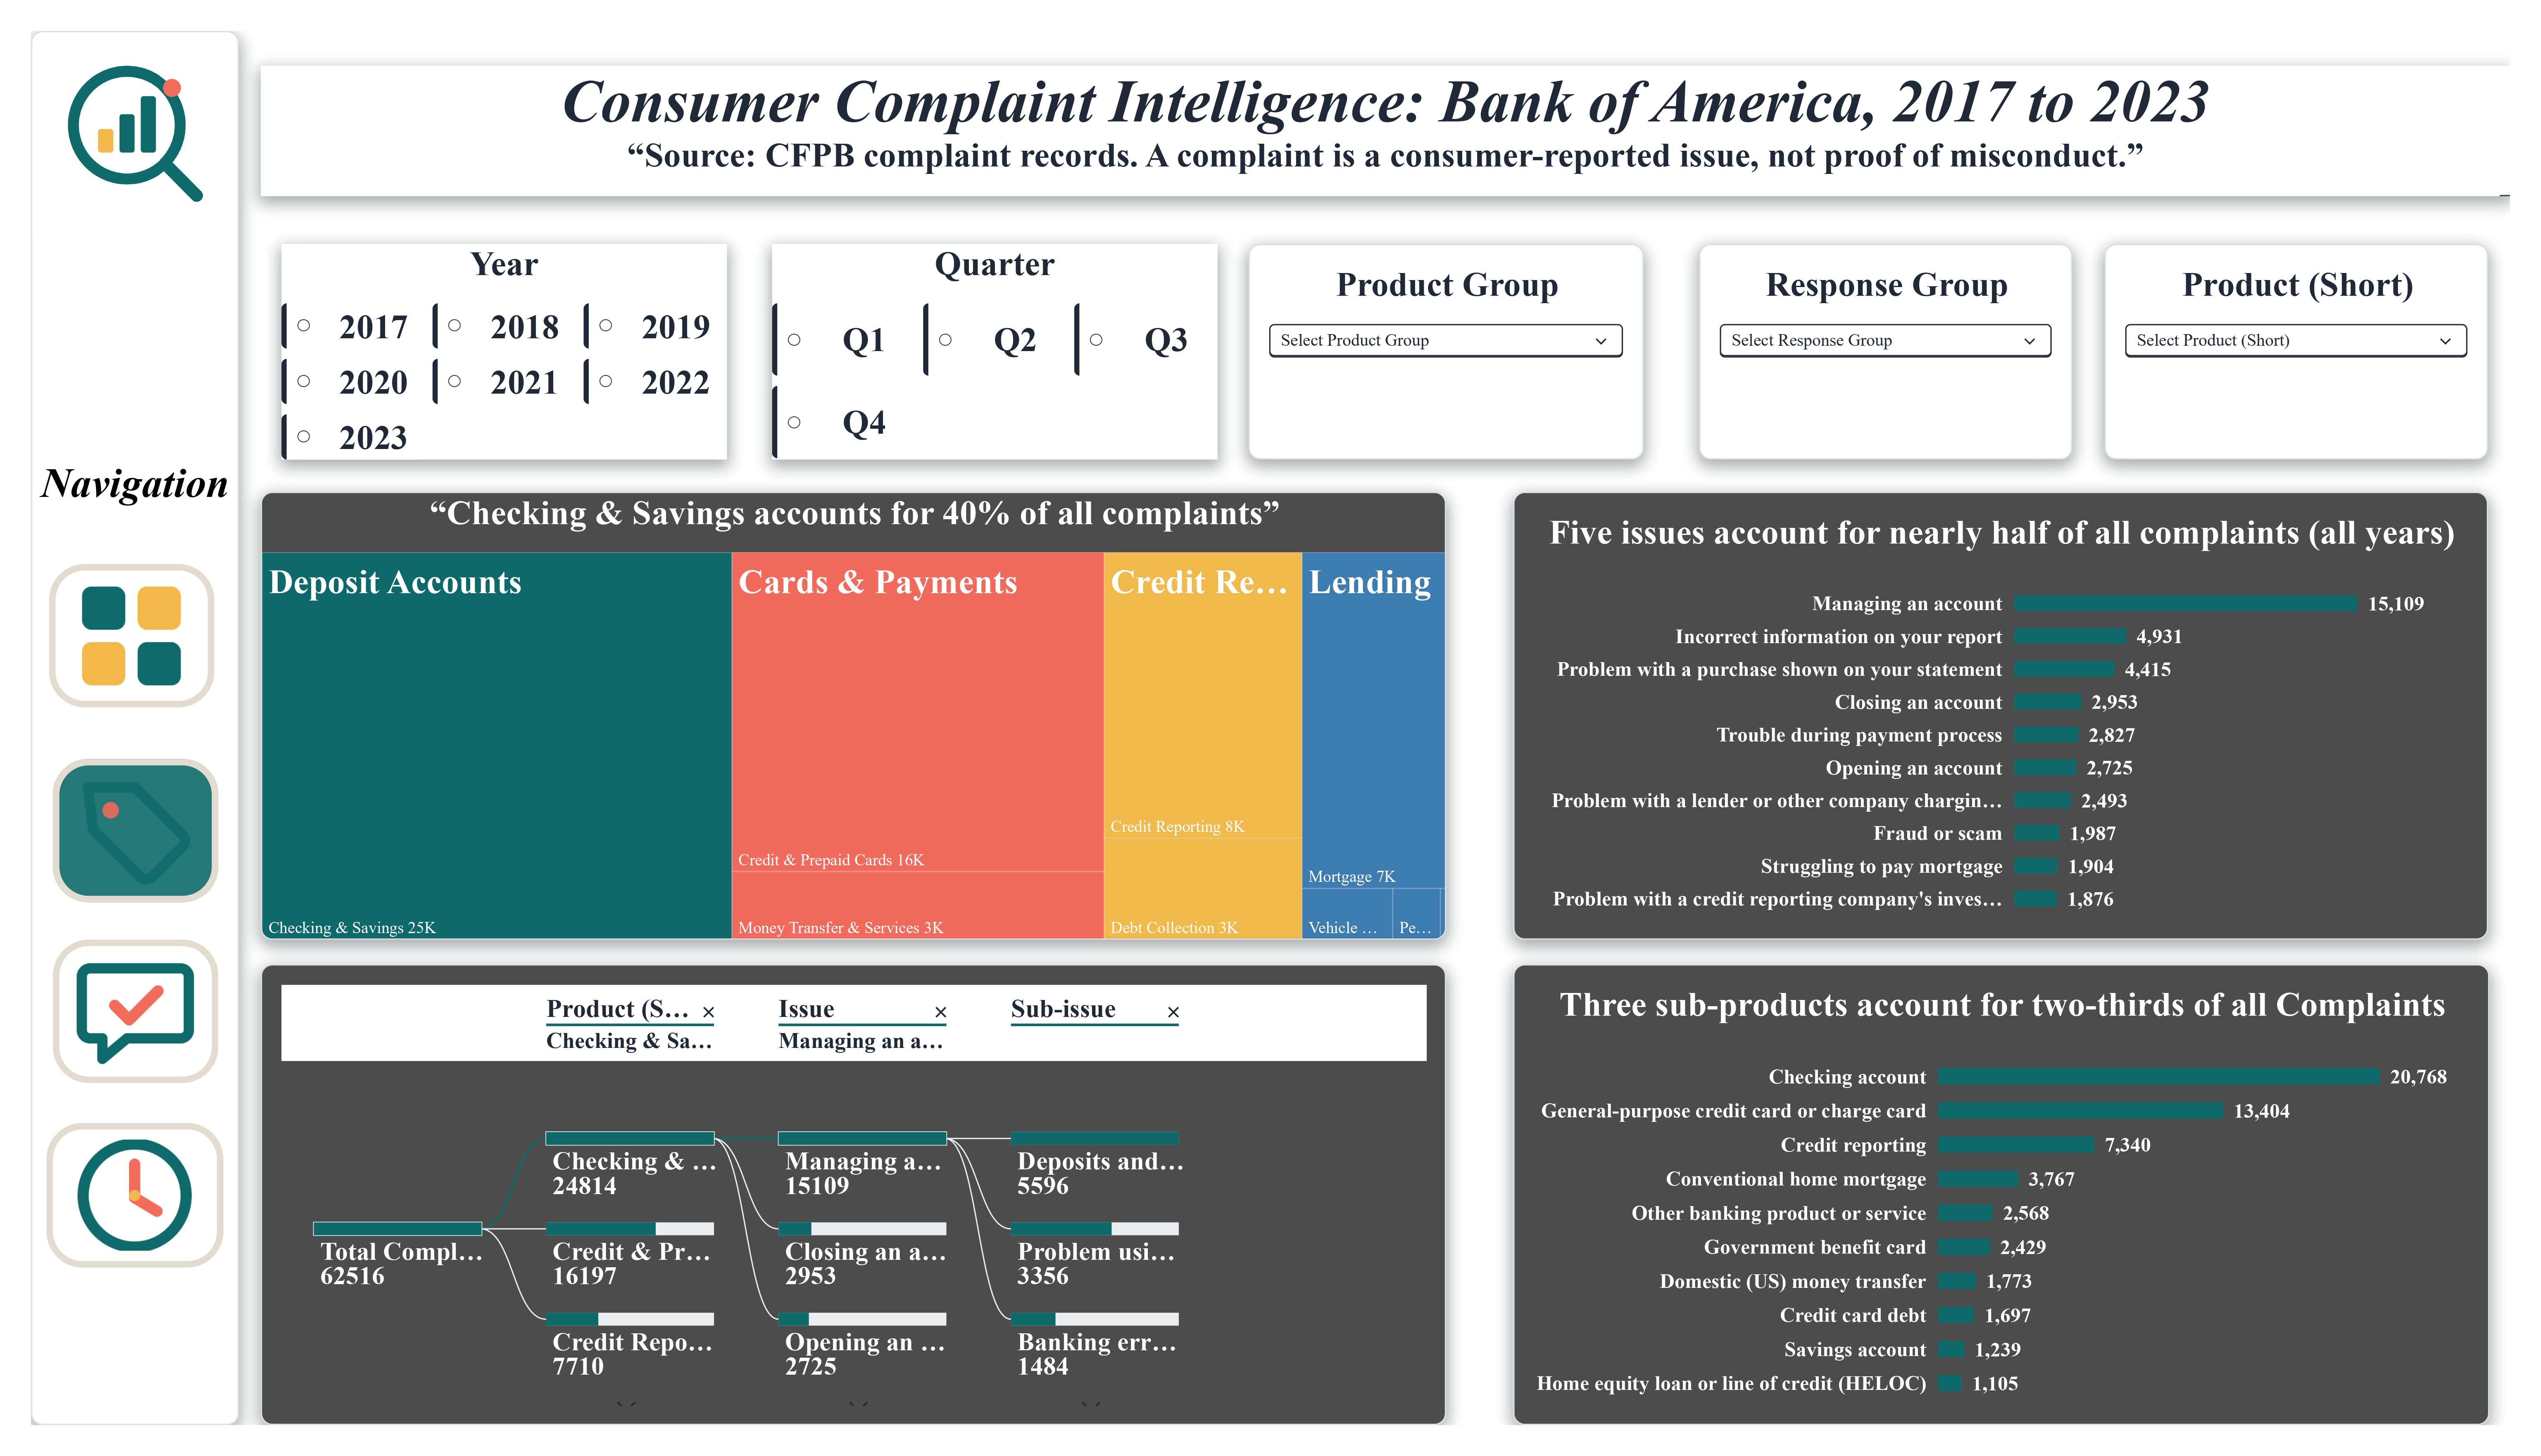

The page's visual inventory and layout, read from the dashboard file:
{"tool":"powerbi","page":{"name":"Product and Issue Analysis","canvas":[1920,1080],"ordinal":1},"visuals":[{"type":"group","id":"g1","title":"Group 2","box":[0,0,161,1079.7],"z":0},{"type":"shape","box":[0,0,161,1079.7],"z":0,"group":"g1"},{"type":"image","box":[0,0,161,150.7],"z":1000,"group":"g1"},{"type":"textbox","title":"Consumer Complaint Intelligence: Bank of America, 2017 to 2023","box":[177.5,26.8,1742.5,101.2],"z":1000},{"type":"textbox","box":[0,332.4,161,80.5],"z":2000,"group":"g1"},{"type":"advancedSlicerVisual","fields":{"Values":["DimDate.Quarter"]},"box":[573.9,165.2,344.8,167.2],"z":3000},{"type":"listSlicer","fields":{"Values":["Complaints.Response Group"]},"box":[1292.4,165.2,289,167.2],"z":5000},{"type":"listSlicer","fields":{"Values":["Complaints.Product (Short)"]},"box":[1606.2,165.2,297.3,167.2],"z":6000},{"type":"actionButton","box":[14.5,412.9,128,111.5],"z":7000},{"type":"actionButton","box":[16.5,704,128,111.5],"z":8000},{"type":"actionButton","box":[16.5,563.6,128,111.5],"z":9000},{"type":"treemap","title":"“Checking & Savings accounts for 40% of all complaints”","fields":{"Details":["Complaints.Product (Short)"],"Group":["Complaints.Product Group"],"Values":["Calculations.Total Complaints"]},"box":[177.5,357.2,918.7,346.8],"z":11000},{"type":"clusteredBarChart","title":"Five issues account for nearly half of all complaints (all years)","fields":{"Category":["Complaints.Issue"],"Y":["Calculations.Total Complaints"]},"box":[1147.9,357.2,755.6,346.8],"z":12000},{"type":"decompositionTreeVisual","fields":{"Analyze":["Calculations.Total Complaints"],"ExplainBy":["Complaints.Product (Short)","Complaints.Issue","Complaints.Sub-issue"]},"box":[177.5,722.6,918.7,357.2],"z":13000},{"type":"clusteredBarChart","title":"Three sub-products account for two-thirds of all Complaints ","fields":{"Category":["Complaints.Sub-product"],"Y":["Calculations.Total Complaints"]},"box":[1148,723,756,357],"z":14000},{"type":"actionButton","box":[12.4,846.5,136.3,111.5],"z":14001},{"type":"advancedSlicerVisual","fields":{"Values":["DimDate.Year"]},"box":[194.1,165.2,344.8,167.2],"z":14002},{"type":"listSlicer","fields":{"Values":["Complaints.Product Group"]},"box":[943.5,165.2,305.5,167.2],"z":14003}]}

Visuals, with their boxes on the page's 1920x1080 design canvas (x1, y1, x2, y2). These are canvas units, not pixel positions in the 2541x1456 screenshot, which may show the page scaled, cropped or inside an application window:
"Group 2" group: 0, 0, 161, 1080
shape: 0, 0, 161, 1080
image: 0, 0, 161, 151
"Consumer Complaint Intelligence: Bank of America, 2017 to 2023" textbox: 178, 27, 1920, 128
textbox: 0, 332, 161, 413
advancedSlicerVisual - DimDate.Quarter: 574, 165, 919, 332
listSlicer - Complaints.Response Group: 1292, 165, 1581, 332
listSlicer - Complaints.Product (Short): 1606, 165, 1904, 332
actionButton: 14, 413, 142, 524
actionButton: 16, 704, 144, 816
actionButton: 16, 564, 144, 675
"“Checking & Savings accounts for 40% of all complaints”" treemap: 178, 357, 1096, 704
"Five issues account for nearly half of all complaints (all years)" clusteredBarChart: 1148, 357, 1904, 704
decompositionTreeVisual - Calculations.Total Complaints x Complaints.Product (Short): 178, 723, 1096, 1080
"Three sub-products account for two-thirds of all Complaints " clusteredBarChart: 1148, 723, 1904, 1080
actionButton: 12, 846, 149, 958
advancedSlicerVisual - DimDate.Year: 194, 165, 539, 332
listSlicer - Complaints.Product Group: 944, 165, 1249, 332
